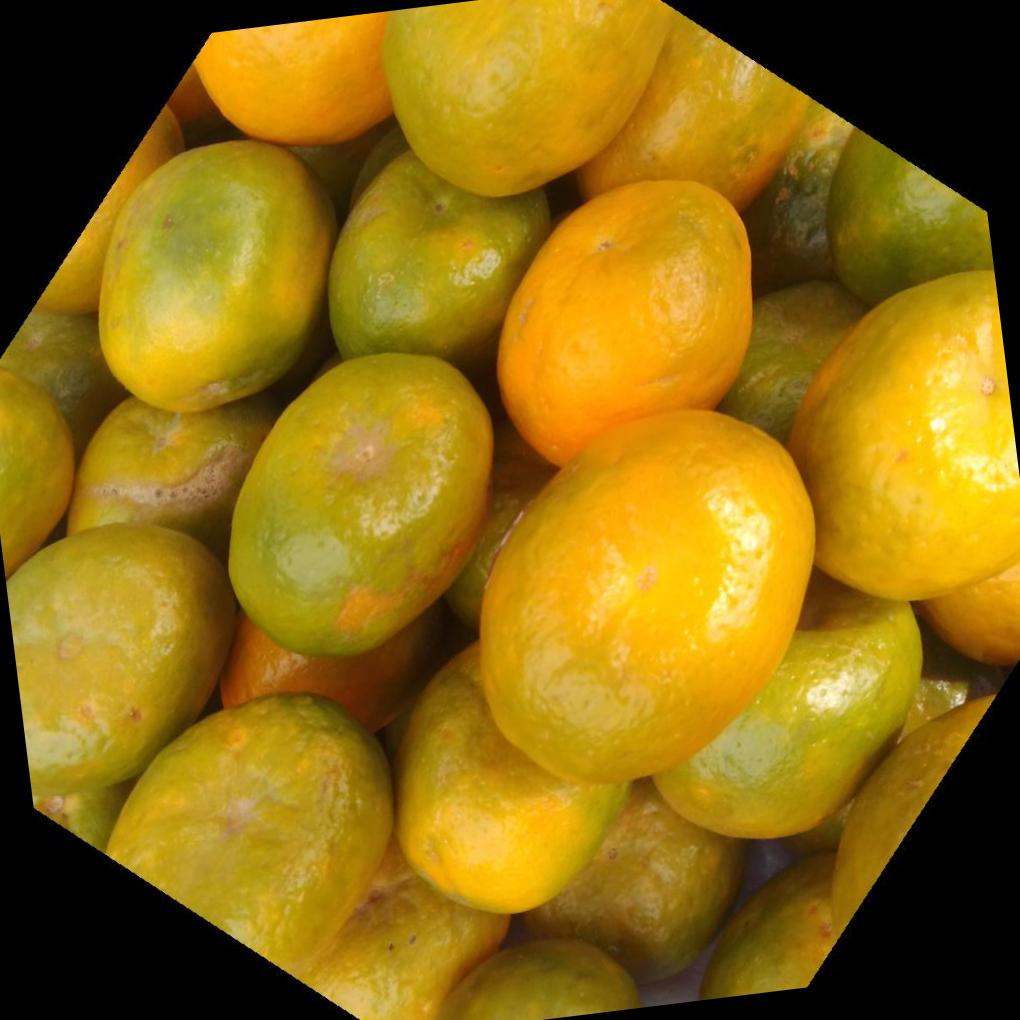FreshGuava: (59, 111, 953, 942)
